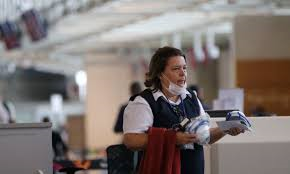mask_weared_incorrect: (152, 48, 189, 99)
